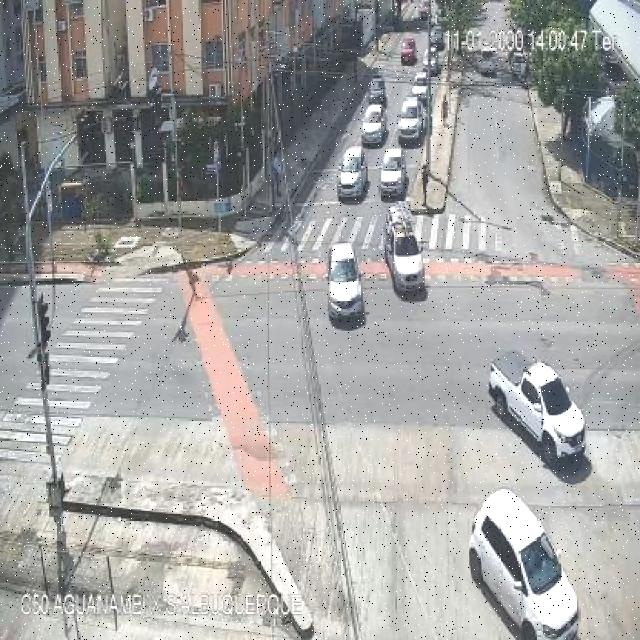Car: (477, 339, 596, 483), (470, 490, 579, 640), (313, 243, 371, 320), (384, 203, 425, 297), (337, 146, 369, 199), (379, 149, 407, 198), (397, 98, 425, 143), (361, 104, 387, 145), (366, 75, 386, 106), (422, 43, 442, 73), (411, 80, 430, 108), (400, 37, 417, 65), (429, 24, 444, 50), (413, 71, 430, 91)
